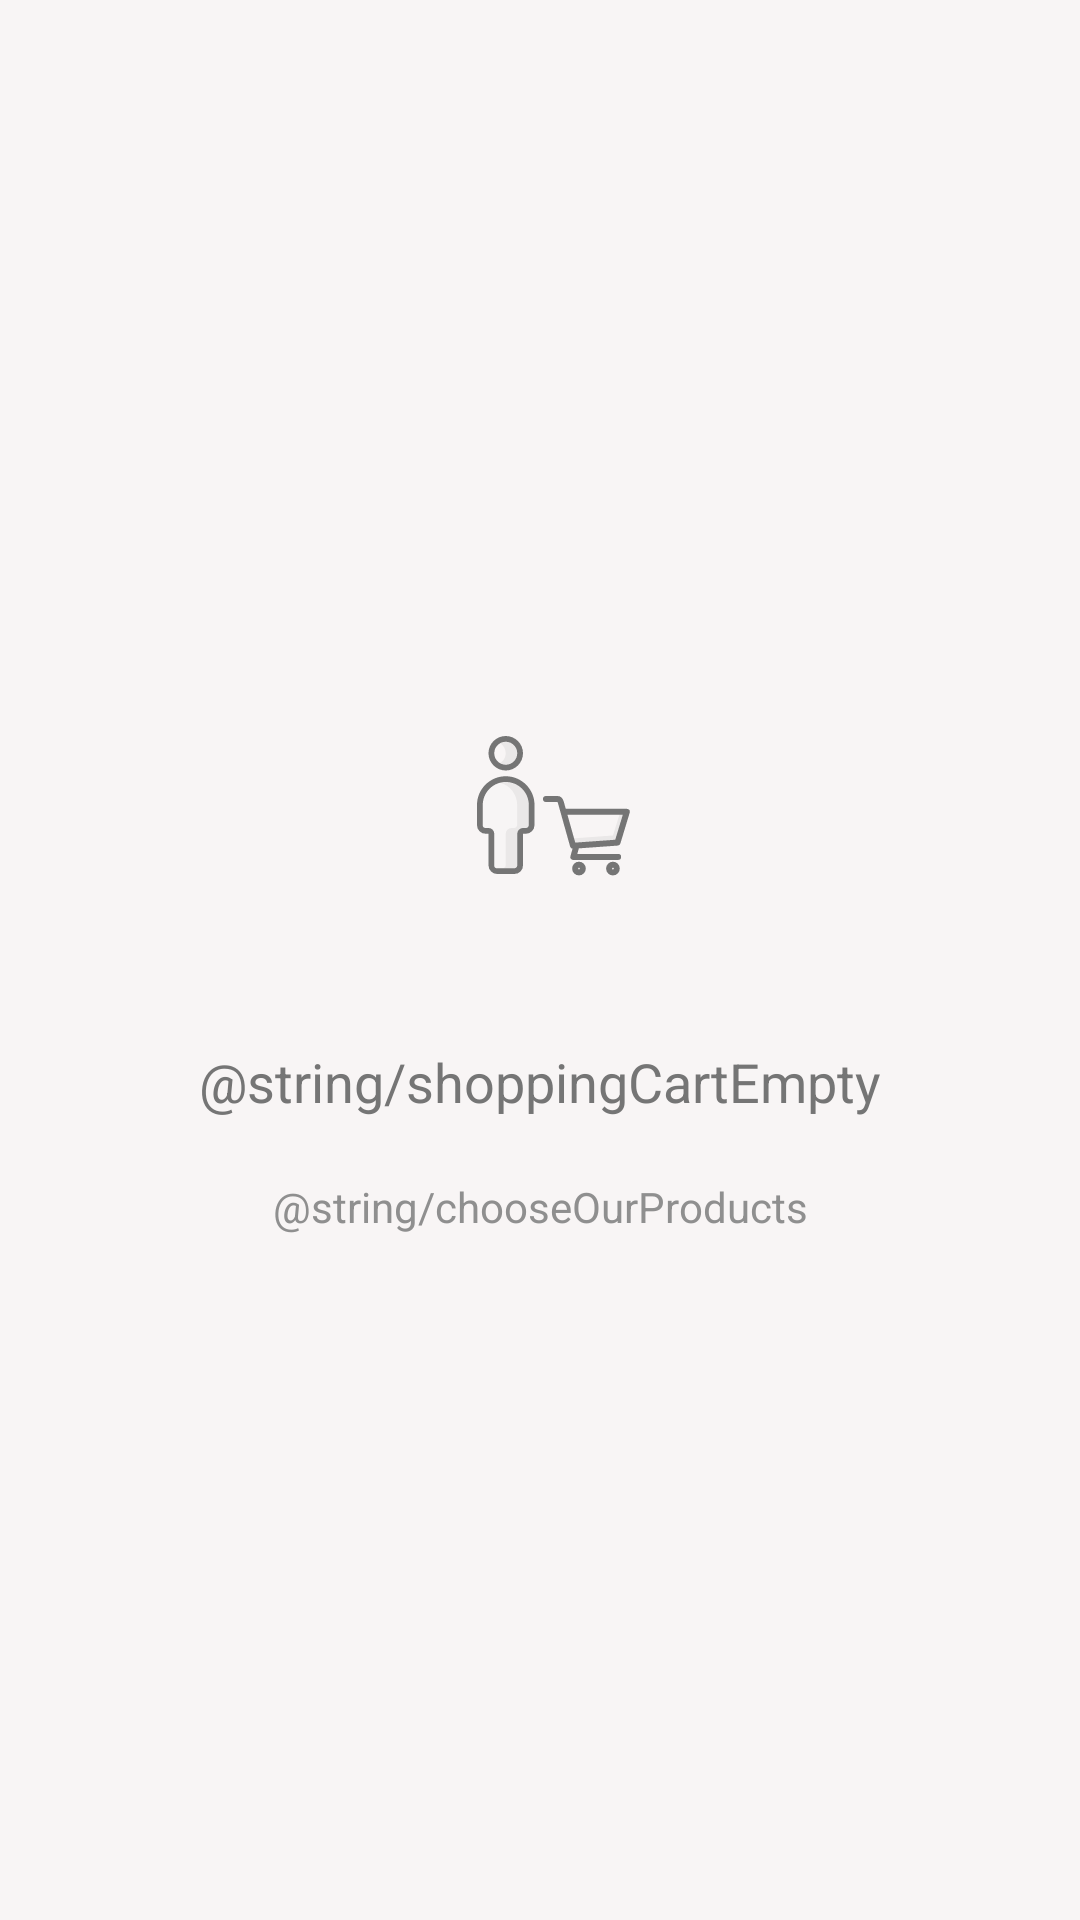

Icon click points for this 1080x1920 phone screenshot, format [x,y]:
empty card: [553,806]
